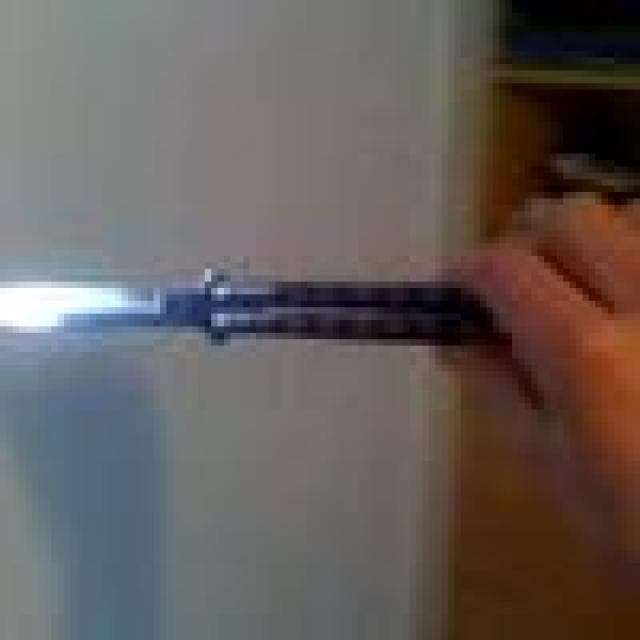knife: (1, 276, 475, 342)
